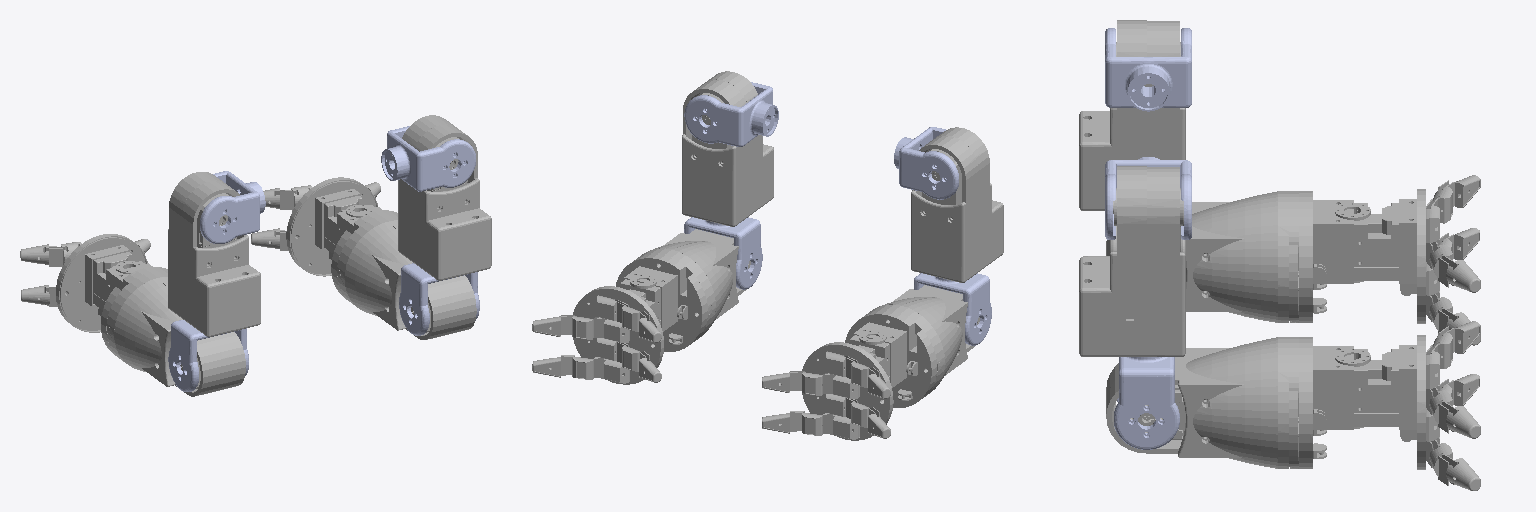
URDF robot description (flov2withhead):
<?xml version="1.0" encoding="utf-8"?>
<!-- This URDF was automatically created by SolidWorks to URDF Exporter! Originally created by [author] ([email redacted]) 
     Commit Version: 1.6.0-4-g7f85cfe  Build Version: 1.6.7995.38578
     For more information, please see http://wiki.ros.org/sw_urdf_exporter -->
<robot
  name="flov2withhead">
  
  
  <link name="world"/>
  
  
  
  <joint name="base_joint" type="fixed">
	<parent link="world"/>
	<child link="base_link"/>
	<origin rpy="0 0 0" xyz="0.0 0.0 1"/>
  </joint>  
  
  
  
  
  
  
  <link
    name="base_link">
    <inertial>
      <origin
        xyz="0.000333168231091641 -0.0490077134325242 0.105556739128517"
        rpy="0 0 0" />
      <mass
        value="0.43756889593348" />
      <inertia
        ixx="0.000780173945392212"
        ixy="1.72547696446317E-06"
        ixz="-8.11722846382893E-08"
        iyy="0.000825842165328829"
        iyz="4.67151417985947E-05"
        izz="0.000643183765667985" />
    </inertial>
    <visual>
      <origin
        xyz="0 0 0"
        rpy="0 0 0" />
      <geometry>
        <mesh
          filename="package://flov2withhead/meshes/base_link.STL" />
      </geometry>
      <material
        name="">
        <color
          rgba="1 1 1 1" />
      </material>
    </visual>
    <collision>
      <origin
        xyz="0 0 0"
        rpy="0 0 0" />
      <geometry>
        <mesh
          filename="package://flov2withhead/meshes/base_link.STL" />
      </geometry>
    </collision>
  </link>
  <link
    name="right_up_joint">
    <inertial>
      <origin
        xyz="5.09595480396863E-10 7.24041410160581E-10 -0.0157092653420775"
        rpy="0 0 0" />
      <mass
        value="0.0208133468453592" />
      <inertia
        ixx="6.27974968154285E-06"
        ixy="-1.32343047844373E-11"
        ixz="8.95773787765367E-14"
        iyy="1.11423800240112E-05"
        iyz="1.27944084467922E-13"
        izz="8.2135527700594E-06" />
    </inertial>
    <visual>
      <origin
        xyz="0 0 0"
        rpy="0 0 0" />
      <geometry>
        <mesh
          filename="package://flov2withhead/meshes/right_up_joint.STL" />
      </geometry>
      <material
        name="">
        <color
          rgba="0.792156862745098 0.819607843137255 0.933333333333333 1" />
      </material>
    </visual>
    <collision>
      <origin
        xyz="0 0 0"
        rpy="0 0 0" />
      <geometry>
        <mesh
          filename="package://flov2withhead/meshes/right_up_joint.STL" />
      </geometry>
    </collision>
  </link>
  <joint
    name="r1"
    type="revolute">
    <origin
      xyz="0.093361 -0.051062 0.13081"
      rpy="1.5708 0 1.5708" />
    <parent
      link="base_link" />
    <child
      link="right_up_joint" />
    <axis
      xyz="0 0 1" />
    <limit
      lower="-3.14"
      upper="3.14"
      effort="100"
      velocity="1" />
  </joint>
  <link
    name="right_up_arm">
    <inertial>
      <origin
        xyz="0.0373903260955437 6.01721482870188E-05 -0.00541151025560814"
        rpy="0 0 0" />
      <mass
        value="0.142004365290478" />
      <inertia
        ixx="3.19807239576317E-05"
        ixy="-4.35320002639335E-08"
        ixz="2.24405433812147E-06"
        iyy="6.16421105939794E-05"
        iyz="9.8162953354545E-10"
        izz="6.84742764155626E-05" />
    </inertial>
    <visual>
      <origin
        xyz="0 0 0"
        rpy="0 0 0" />
      <geometry>
        <mesh
          filename="package://flov2withhead/meshes/right_up_arm.STL" />
      </geometry>
      <material
        name="">
        <color
          rgba="0.752941176470588 0.752941176470588 0.752941176470588 1" />
      </material>
    </visual>
    <collision>
      <origin
        xyz="0 0 0"
        rpy="0 0 0" />
      <geometry>
        <mesh
          filename="package://flov2withhead/meshes/right_up_arm.STL" />
      </geometry>
    </collision>
  </link>
  <joint
    name="r2"
    type="revolute">
    <origin
      xyz="0 0 0"
      rpy="-1.5708 0 -1.5708" />
    <parent
      link="right_up_joint" />
    <child
      link="right_up_arm" />
    <axis
      xyz="0 0 -1" />
    <limit
      lower="-3.14"
      upper="3.14"
      effort="100"
      velocity="1" />
  </joint>
  <link
    name="right_low_joint">
    <inertial>
      <origin
        xyz="5.09595032838206E-10 7.24041260974362E-10 -0.0157092653420775"
        rpy="0 0 0" />
      <mass
        value="0.0208133468453592" />
      <inertia
        ixx="6.27974968154287E-06"
        ixy="-1.32343047943505E-11"
        ixz="8.95773982853656E-14"
        iyy="1.11423800240113E-05"
        iyz="1.27944096469429E-13"
        izz="8.21355277005941E-06" />
    </inertial>
    <visual>
      <origin
        xyz="0 0 0"
        rpy="0 0 0" />
      <geometry>
        <mesh
          filename="package://flov2withhead/meshes/right_low_joint.STL" />
      </geometry>
      <material
        name="">
        <color
          rgba="0.792156862745098 0.819607843137255 0.933333333333333 1" />
      </material>
    </visual>
    <collision>
      <origin
        xyz="0 0 0"
        rpy="0 0 0" />
      <geometry>
        <mesh
          filename="package://flov2withhead/meshes/right_low_joint.STL" />
      </geometry>
    </collision>
  </link>
  <joint
    name="r3"
    type="revolute">
    <origin
      xyz="0.117 0 -0.001"
      rpy="-1.5708 -3.1416 -1.5708" />
    <parent
      link="right_up_arm" />
    <child
      link="right_low_joint" />
    <axis
      xyz="0 0 1" />
    <limit
      lower="-3.14"
      upper="3.14"
      effort="100"
      velocity="1" />
  </joint>
  <link
    name="right_low_arm">
    <inertial>
      <origin
        xyz="0.00014535 0.04812 0.00014102"
        rpy="0 0 0" />
      <mass
        value="0.18903" />
      <inertia
        ixx="8.2107E-05"
        ixy="3.3864E-07"
        ixz="5.514E-07"
        iyy="7.698E-05"
        iyz="-3.2583E-09"
        izz="0.00010333" />
    </inertial>
    <visual>
      <origin
        xyz="0 0 0"
        rpy="0 0 0" />
      <geometry>
        <mesh
          filename="package://flov2withhead/meshes/right_low_arm.STL" />
      </geometry>
      <material
        name="">
        <color
          rgba="0.75294 0.75294 0.75294 1" />
      </material>
    </visual>
    <collision>
      <origin
        xyz="0 0 0"
        rpy="0 0 0" />
      <geometry>
        <mesh
          filename="package://flov2withhead/meshes/right_low_arm.STL" />
      </geometry>
    </collision>
  </link>
  <joint
    name="r4"
    type="revolute">
    <origin
      xyz="0 0 0"
      rpy="0 -1.5708 0" />
    <parent
      link="right_low_joint" />
    <child
      link="right_low_arm" />
    <axis
      xyz="0 0 -1" />
    <limit
      lower="-3.14"
      upper="3.14"
      effort="100"
      velocity="1" />
  </joint>
  <link
    name="right_gripper">
    <inertial>
      <origin
        xyz="0.0039403 0.00064863 -0.021633"
        rpy="0 0 0" />
      <mass
        value="0.1033" />
      <inertia
        ixx="2.0963E-05"
        ixy="2.9075E-08"
        ixz="-3.1217E-07"
        iyy="1.8932E-05"
        iyz="1.7556E-08"
        izz="2.3352E-05" />
    </inertial>
    <visual>
      <origin
        xyz="0 0 0"
        rpy="0 0 0" />
      <geometry>
        <mesh
          filename="package://flov2withhead/meshes/right_gripper.STL" />
      </geometry>
      <material
        name="">
        <color
          rgba="0.75294 0.75294 0.75294 1" />
      </material>
    </visual>
    <collision>
      <origin
        xyz="0 0 0"
        rpy="0 0 0" />
      <geometry>
        <mesh
          filename="package://flov2withhead/meshes/right_gripper.STL" />
      </geometry>
    </collision>
  </link>
  <joint
    name="r5"
    type="fixed">
    <origin
      xyz="-0.000250000000047877 0.151140016004298 -0.000500000000000056"
      rpy="1.5707963267949 0 -3.14159265358979" />
    <parent
      link="right_low_arm" />
    <child
      link="right_gripper" />
    <axis
      xyz="0 0 0" />
  </joint>
  <link
    name="left_up_joint">
    <inertial>
      <origin
        xyz="-5.09595435294052E-10 -7.24041521182883E-10 -0.0157092653420776"
        rpy="0 0 0" />
      <mass
        value="0.0208133468453592" />
      <inertia
        ixx="6.27974968154287E-06"
        ixy="-1.32343047861331E-11"
        ixz="-8.95773956338105E-14"
        iyy="1.11423800240112E-05"
        iyz="-1.2794410246096E-13"
        izz="8.21355277005941E-06" />
    </inertial>
    <visual>
      <origin
        xyz="0 0 0"
        rpy="0 0 0" />
      <geometry>
        <mesh
          filename="package://flov2withhead/meshes/left_up_joint.STL" />
      </geometry>
      <material
        name="">
        <color
          rgba="0.792156862745098 0.819607843137255 0.933333333333333 1" />
      </material>
    </visual>
    <collision>
      <origin
        xyz="0 0 0"
        rpy="0 0 0" />
      <geometry>
        <mesh
          filename="package://flov2withhead/meshes/left_up_joint.STL" />
      </geometry>
    </collision>
  </link>
  <joint
    name="l1"
    type="revolute">
    <origin
      xyz="-0.0936387883044479 -0.0510621773979172 0.130726931673384"
      rpy="-1.5707963267949 0 1.5707963267949" />
    <parent
      link="base_link" />
    <child
      link="left_up_joint" />
    <axis
      xyz="0 0 1" />
    <limit
      lower="-3.14"
      upper="3.14"
      effort="100"
      velocity="1" />
  </joint>
  <link
    name="left_up_arm">
    <inertial>
      <origin
        xyz="0.0373903260955438 6.01721482865747E-05 -0.00541151025560831"
        rpy="0 0 0" />
      <mass
        value="0.142004365290478" />
      <inertia
        ixx="3.19807239576316E-05"
        ixy="-4.35320002639623E-08"
        ixz="2.24405433812155E-06"
        iyy="6.16421105939794E-05"
        iyz="9.81629533561284E-10"
        izz="6.84742764155625E-05" />
    </inertial>
    <visual>
      <origin
        xyz="0 0 0"
        rpy="0 0 0" />
      <geometry>
        <mesh
          filename="package://flov2withhead/meshes/left_up_arm.STL" />
      </geometry>
      <material
        name="">
        <color
          rgba="0.752941176470588 0.752941176470588 0.752941176470588 1" />
      </material>
    </visual>
    <collision>
      <origin
        xyz="0 0 0"
        rpy="0 0 0" />
      <geometry>
        <mesh
          filename="package://flov2withhead/meshes/left_up_arm.STL" />
      </geometry>
    </collision>
  </link>
  <joint
    name="l2"
    type="revolute">
    <origin
      xyz="0 0 0"
      rpy="1.5707963267949 0 1.57079632679489" />
    <parent
      link="left_up_joint" />
    <child
      link="left_up_arm" />
    <axis
      xyz="0 0 -1" />
    <limit
      lower="-3.14"
      upper="3.14"
      effort="100"
      velocity="1" />
  </joint>
  <link
    name="left_low_joint">
    <inertial>
      <origin
        xyz="2.22044604925031E-16 -2.85966136187588E-10 -0.0157092656103693"
        rpy="0 0 0" />
      <mass
        value="0.0208133475595526" />
      <inertia
        ixx="6.27974985366218E-06"
        ixy="-1.33778831812008E-11"
        ixz="1.17417841451904E-19"
        iyy="1.114238023727E-05"
        iyz="-4.94677559588482E-14"
        izz="8.21355305611453E-06" />
    </inertial>
    <visual>
      <origin
        xyz="0 0 0"
        rpy="0 0 0" />
      <geometry>
        <mesh
          filename="package://flov2withhead/meshes/left_low_joint.STL" />
      </geometry>
      <material
        name="">
        <color
          rgba="0.792156862745098 0.819607843137255 0.933333333333333 1" />
      </material>
    </visual>
    <collision>
      <origin
        xyz="0 0 0"
        rpy="0 0 0" />
      <geometry>
        <mesh
          filename="package://flov2withhead/meshes/left_low_joint.STL" />
      </geometry>
    </collision>
  </link>
  <joint
    name="l3"
    type="revolute">
    <origin
      xyz="0.117 0 -0.00100000000000006"
      rpy="-1.5707963267949 0 -1.5707963267949" />
    <parent
      link="left_up_arm" />
    <child
      link="left_low_joint" />
    <axis
      xyz="0 0 1" />
    <limit
      lower="-3.14"
      upper="3.14"
      effort="100"
      velocity="1" />
  </joint>
  <link
    name="left_low_arm">
    <inertial>
      <origin
        xyz="0.0481196273812194 -0.000145349329485027 0.000141021295786414"
        rpy="0 0 0" />
      <mass
        value="0.18903364369622" />
      <inertia
        ixx="7.6979741225698E-05"
        ixy="-3.38641336425106E-07"
        ixz="-3.25828337644394E-09"
        iyy="8.21074310058178E-05"
        iyz="-5.51403520464896E-07"
        izz="0.000103326261719523" />
    </inertial>
    <visual>
      <origin
        xyz="0 0 0"
        rpy="0 0 0" />
      <geometry>
        <mesh
          filename="package://flov2withhead/meshes/left_low_arm.STL" />
      </geometry>
      <material
        name="">
        <color
          rgba="0.752941176470588 0.752941176470588 0.752941176470588 1" />
      </material>
    </visual>
    <collision>
      <origin
        xyz="0 0 0"
        rpy="0 0 0" />
      <geometry>
        <mesh
          filename="package://flov2withhead/meshes/left_low_arm.STL" />
      </geometry>
    </collision>
  </link>
  <joint
    name="l4"
    type="revolute">
    <origin
      xyz="0 0 0"
      rpy="-1.5708 0 -1.5708" />
    <parent
      link="left_low_joint" />
    <child
      link="left_low_arm" />
    <axis
      xyz="0 0 -1" />
    <limit
      lower="-3.14"
      upper="3.14"
      effort="100"
      velocity="1" />
  </joint>
  <link
    name="left_gripper">
    <inertial>
      <origin
        xyz="0.00394028289479455 -0.0216328066989446 -0.000648626674702557"
        rpy="0 0 0" />
      <mass
        value="0.103299324219439" />
      <inertia
        ixx="2.09630043696831E-05"
        ixy="-3.12167035365804E-07"
        ixz="-2.90752267814504E-08"
        iyy="2.33522908570638E-05"
        iyz="-1.75561004581666E-08"
        izz="1.89319959235233E-05" />
    </inertial>
    <visual>
      <origin
        xyz="0 0 0"
        rpy="0 0 0" />
      <geometry>
        <mesh
          filename="package://flov2withhead/meshes/left_gripper.STL" />
      </geometry>
      <material
        name="">
        <color
          rgba="0.752941176470588 0.752941176470588 0.752941176470588 1" />
      </material>
    </visual>
    <collision>
      <origin
        xyz="0 0 0"
        rpy="0 0 0" />
      <geometry>
        <mesh
          filename="package://flov2withhead/meshes/left_gripper.STL" />
      </geometry>
    </collision>
  </link>
  <joint
    name="l5"
    type="fixed">
    <origin
      xyz="0.15114 0.00025 -0.0005"
      rpy="-3.1416 0 1.5708" />
    <parent
      link="left_low_arm" />
    <child
      link="left_gripper" />
    <axis
      xyz="0 0 0" />
  </joint>
  
  
  
  <transmission name="left_up_joint_trans">
	<type>transmission_interface/SimpleTransmission</type>
	<joint name="l1">
		<hardwareInterface>hardware_interface/PositionJointInterface</hardwareInterface>
	</joint>
	<actuator name="left_up_joint_motor">
		<hardwareInterface>hardware_interface/PositionJointInterface</hardwareInterface>
		<mechanicalReduction>1</mechanicalReduction>
	</actuator>
  </transmission>
  
  <transmission name="left_up_arm_trans">
	<type>transmission_interface/SimpleTransmission</type>
	<joint name="l2">
		<hardwareInterface>hardware_interface/PositionJointInterface</hardwareInterface>
	</joint>
	<actuator name="left_up_arm_motor">
		<hardwareInterface>hardware_interface/PositionJointInterface</hardwareInterface>
		<mechanicalReduction>1</mechanicalReduction>
	</actuator>
  </transmission>
  
  <transmission name="left_low_joint_trans">
	<type>transmission_interface/SimpleTransmission</type>
	<joint name="l3">
		<hardwareInterface>hardware_interface/PositionJointInterface</hardwareInterface>
	</joint>
	<actuator name="left_low_joint_motor">
		<hardwareInterface>hardware_interface/PositionJointInterface</hardwareInterface>
		<mechanicalReduction>1</mechanicalReduction>
	</actuator>
  </transmission>
  
  <transmission name="left_low_arm_trans">
	<type>transmission_interface/SimpleTransmission</type>
	<joint name="l4">
		<hardwareInterface>hardware_interface/PositionJointInterface</hardwareInterface>
	</joint>
	<actuator name="left_low_arm_motor">
		<hardwareInterface>hardware_interface/PositionJointInterface</hardwareInterface>
		<mechanicalReduction>1</mechanicalReduction>
	</actuator>
  </transmission>  
  
  
  
  <transmission name="right_up_joint_trans">
	<type>transmission_interface/SimpleTransmission</type>
	<joint name="r1">
		<hardwareInterface>hardware_interface/PositionJointInterface</hardwareInterface>
	</joint>
	<actuator name="right_up_joint_motor">
		<hardwareInterface>hardware_interface/PositionJointInterface</hardwareInterface>
		<mechanicalReduction>1</mechanicalReduction>
	</actuator>
  </transmission>
  
  <transmission name="right_up_arm_trans">
	<type>transmission_interface/SimpleTransmission</type>
	<joint name="r2">
		<hardwareInterface>hardware_interface/PositionJointInterface</hardwareInterface>
	</joint>
	<actuator name="right_up_arm_motor">
		<hardwareInterface>hardware_interface/PositionJointInterface</hardwareInterface>
		<mechanicalReduction>1</mechanicalReduction>
	</actuator>
  </transmission>
  
  <transmission name="right_low_joint_trans">
	<type>transmission_interface/SimpleTransmission</type>
	<joint name="r3">
		<hardwareInterface>hardware_interface/PositionJointInterface</hardwareInterface>
	</joint>
	<actuator name="right_low_joint_motor">
		<hardwareInterface>hardware_interface/PositionJointInterface</hardwareInterface>
		<mechanicalReduction>1</mechanicalReduction>
	</actuator>
  </transmission>
  
  <transmission name="right_low_arm_trans">
	<type>transmission_interface/SimpleTransmission</type>
	<joint name="r4">
		<hardwareInterface>hardware_interface/PositionJointInterface</hardwareInterface>
	</joint>
	<actuator name="right_low_arm_motor">
		<hardwareInterface>hardware_interface/PositionJointInterface</hardwareInterface>
		<mechanicalReduction>1</mechanicalReduction>
	</actuator>
  </transmission>  
  

  
  <gazebo>
	<plugin name="control" filename="libgazebo_ros_control.so">
		<robotNamespace>/</robotNamespace>
	</plugin>
  </gazebo>
  
  
  <gazebo reference="left_up_joint">
	<selfCollide>true</selfCollide>
  </gazebo>

  <gazebo reference="left_up_arm">
	<selfCollide>true</selfCollide>
  </gazebo>
  
  <gazebo reference="left_low_joint">
	<selfCollide>true</selfCollide>
  </gazebo>
  
    <gazebo reference="left_low_arm">
	<selfCollide>true</selfCollide>
  </gazebo>
  
  <gazebo reference="right_up_joint">
	<selfCollide>true</selfCollide>
  </gazebo>

  <gazebo reference="right_up_arm">
	<selfCollide>true</selfCollide>
  </gazebo>
  
  <gazebo reference="right_low_joint">
	<selfCollide>true</selfCollide>
  </gazebo>
  
  <gazebo reference="right_low_arm">
	<selfCollide>true</selfCollide>
  </gazebo>
  
  <gazebo reference="right_gripper">
	<selfCollide>true</selfCollide>
  </gazebo>
  
    <gazebo reference="left_gripper">
	<selfCollide>true</selfCollide>
  </gazebo>
  
  
  
  
  
  
  
  
  
</robot>

--- Facts derived from the render (not from the file) ---
3 views of the same robot in one strip: view 1: azimuth 30°, elevation 25°; view 2: azimuth 150°, elevation 25°; view 3: azimuth 270°, elevation 25° (orthographic).
Model flov2withhead with 12 links and 11 joints (8 revolute, 3 fixed), rooted at world, posed all joints at 0.
Visible links, largest first — view 1: left_up_arm, right_up_arm, left_low_arm, right_low_arm, left_gripper, right_gripper, right_up_joint, left_up_joint, right_low_joint, left_low_joint; view 2: right_gripper, left_gripper, left_up_arm, right_up_arm, left_low_arm, right_low_arm, right_up_joint, left_up_joint, right_low_joint, left_low_joint; view 3: right_low_arm, right_up_arm, right_gripper, left_gripper, left_low_arm, left_up_arm, left_up_joint, right_low_joint, right_up_joint.
Link boxes in pixels (bbox=[...]): left_up_arm: bbox=[168, 172, 260, 336]; right_up_arm: bbox=[398, 115, 491, 280]; left_low_arm: bbox=[102, 268, 245, 396]; right_low_arm: bbox=[333, 211, 476, 339]; left_gripper: bbox=[20, 234, 167, 349]; right_gripper: bbox=[251, 177, 396, 292]; right_up_joint: bbox=[381, 126, 475, 191]; left_up_joint: bbox=[200, 171, 265, 243]; right_low_joint: bbox=[399, 263, 479, 335]; left_low_joint: bbox=[168, 320, 248, 391]; right_gripper: bbox=[532, 257, 703, 384]; left_gripper: bbox=[762, 313, 932, 440]; left_up_arm: bbox=[911, 127, 1003, 282]; right_up_arm: bbox=[682, 71, 773, 226]; left_low_arm: bbox=[859, 285, 979, 398]; right_low_arm: bbox=[634, 229, 750, 341]; right_up_joint: bbox=[684, 82, 778, 146]; left_up_joint: bbox=[894, 127, 958, 199]; right_low_joint: bbox=[684, 217, 762, 289]; left_low_joint: bbox=[914, 273, 991, 345]; right_low_arm: bbox=[1106, 337, 1309, 468]; right_up_arm: bbox=[1079, 166, 1185, 356]; right_gripper: bbox=[1310, 321, 1480, 490]; left_gripper: bbox=[1310, 175, 1480, 345]; left_low_arm: bbox=[1106, 191, 1309, 322]; left_up_arm: bbox=[1079, 20, 1185, 210]; left_up_joint: bbox=[1105, 28, 1191, 111]; right_low_joint: bbox=[1114, 357, 1179, 449]; right_up_joint: bbox=[1105, 157, 1191, 239].
Size in the robot's own frame: 0.2922 by 0.2171 by 0.1753 metres.
Meshes: 11 distinct files referenced, 10 mesh visuals loaded (10 binary STL); not drawn: 1 (reference not matched to a file when rendering).